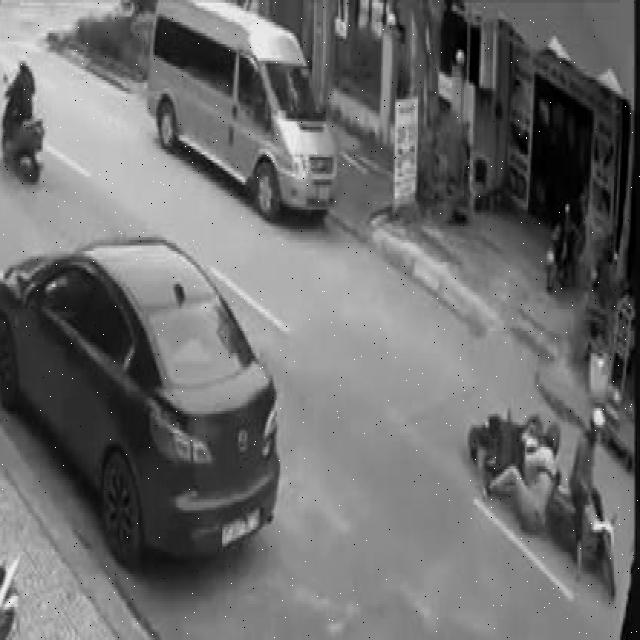accident: (465, 356, 619, 615)
